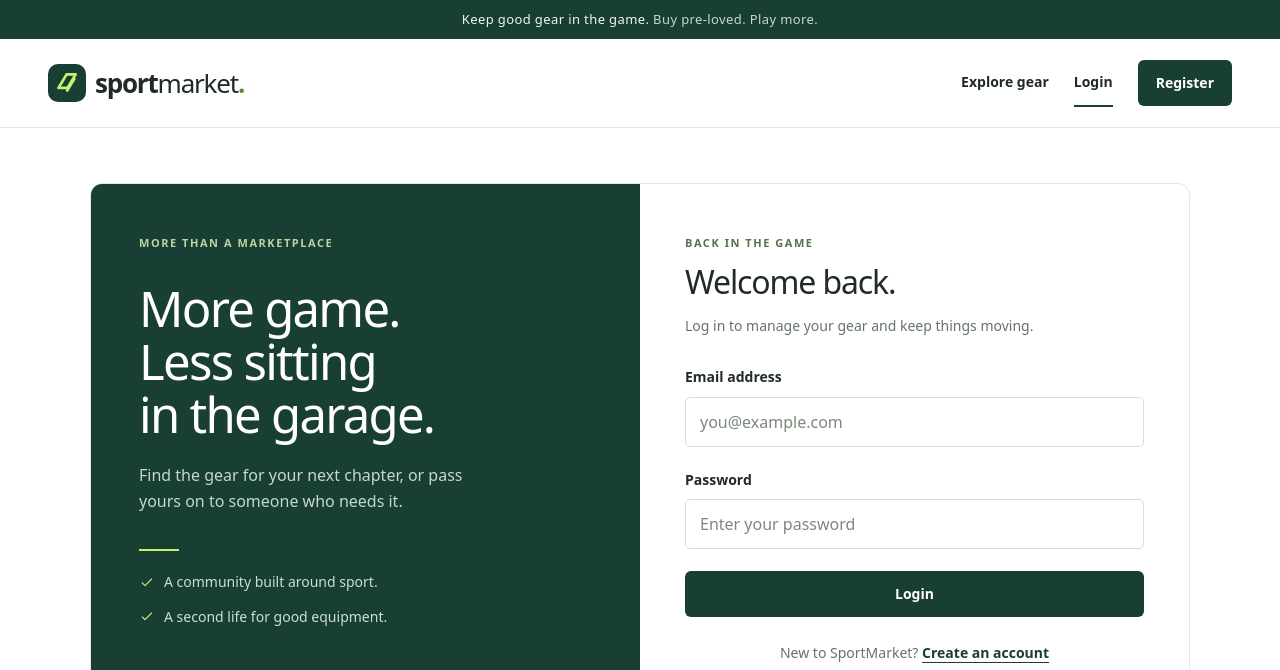
Test case: marketplace workflows › prepopulates editing and shows backend 403 errors
The image size is (1280, 670).
Type "alex@example.test" into the field labelled "Email address".
click(914, 422); type("alex@example.test")  # box [685,397,1144,447]
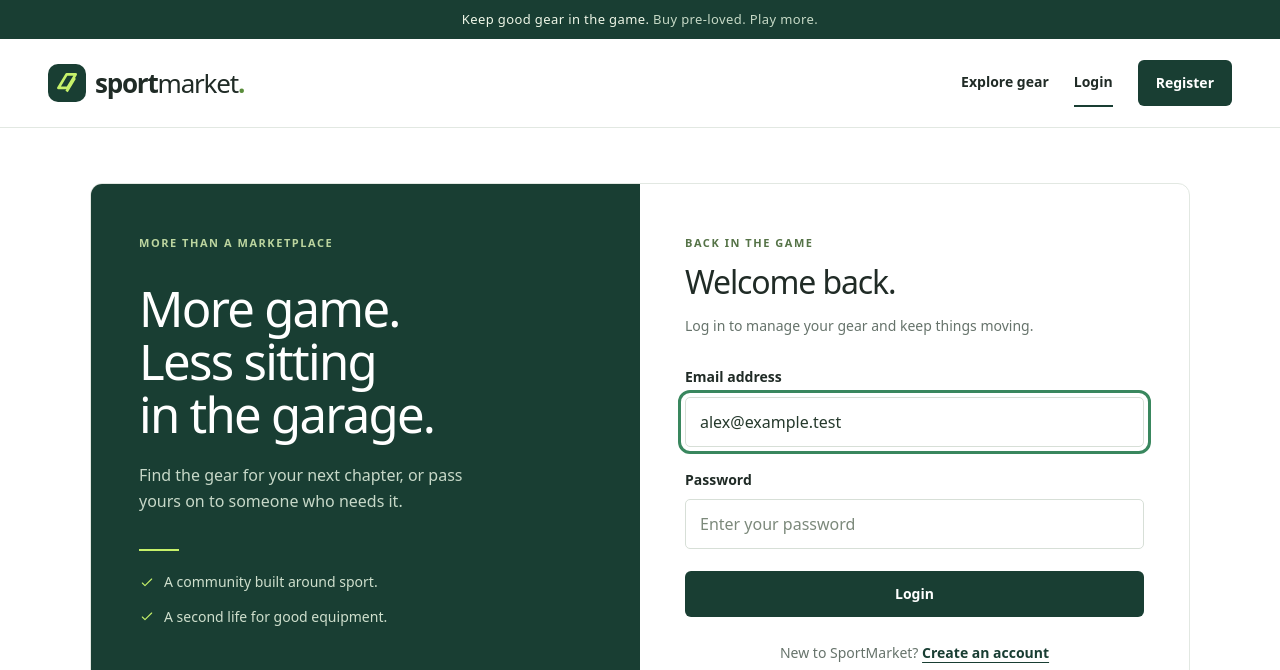
Type "test-password" into the password field labelled "Password".
click(914, 524); type("test-password")  # box [685,499,1144,549]
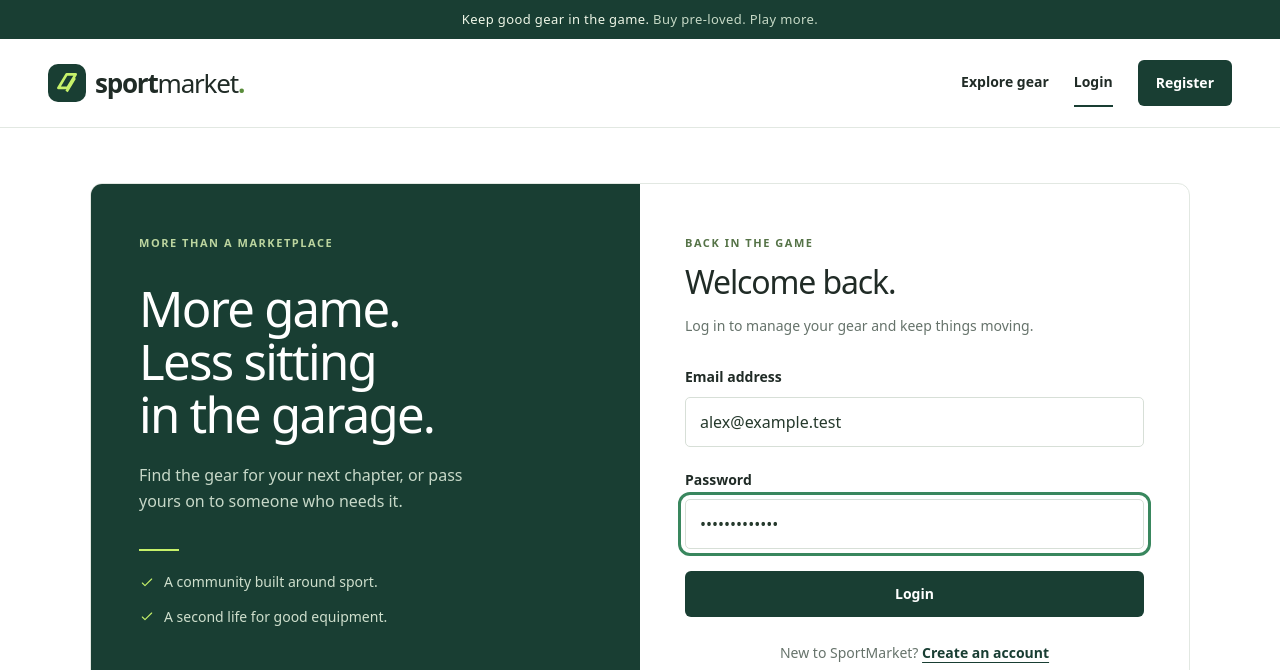
Click the button "Login".
click(914, 594)  # box [685,571,1144,617]
(page scrolled)
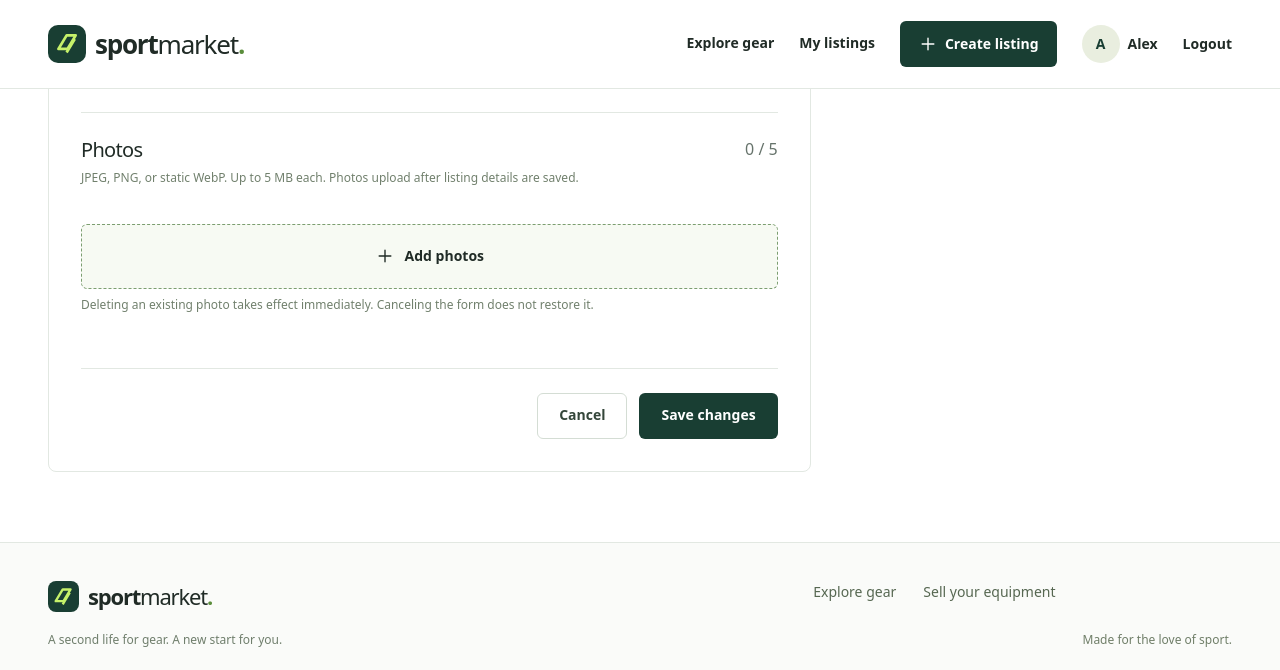
Expected: the number field labelled "Price" holds "24.99", [81,7,321,57]
Click the button "Save changes".
click(709, 416)  # box [640,393,778,439]
(page scrolled)
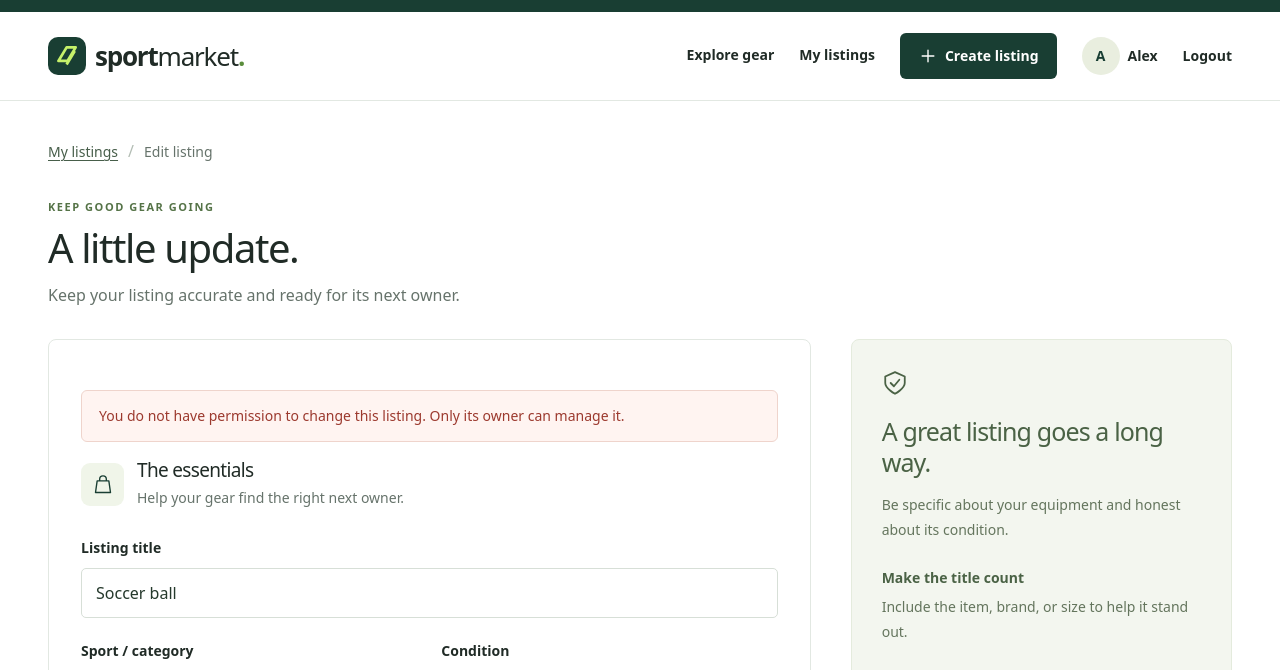
Expected: the message shows "Only its owner", [99,406,625,425]
